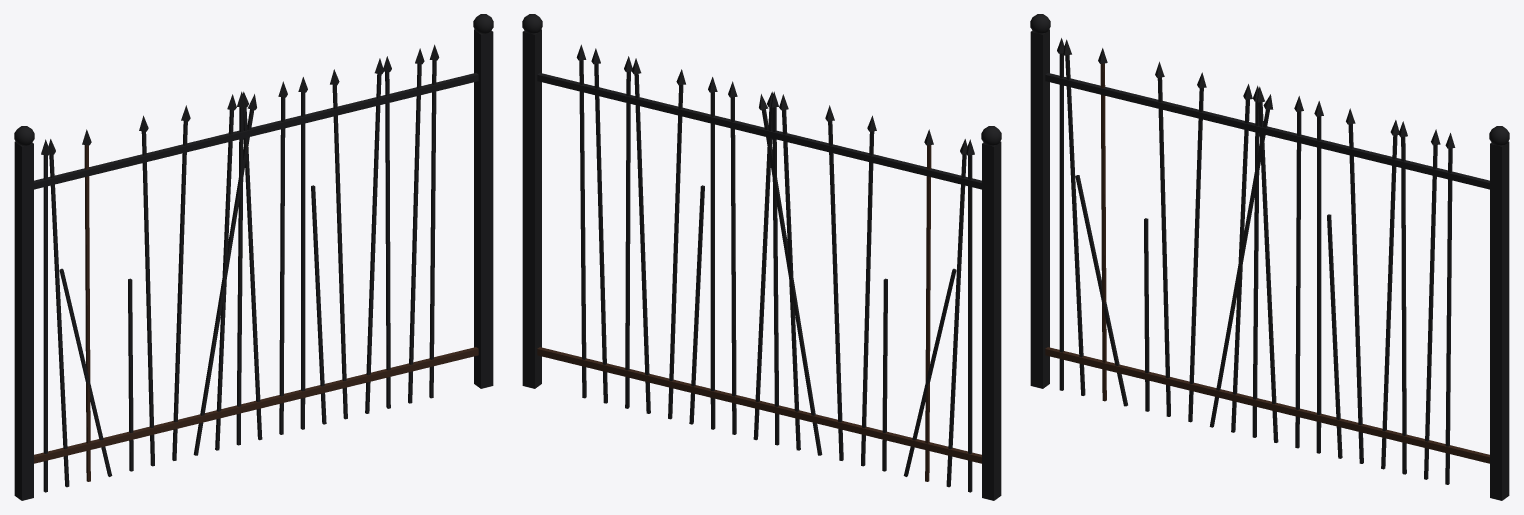
File: SM_80s_IronFence.glb
The picture shows the model from 3 angles, left to right: view 1: azimuth 30°, elevation 25°; view 2: azimuth 150°, elevation 25°; view 3: azimuth 330°, elevation 25°; orthographic projection.
Visible parts, largest first — view 1: SM_80s_IronFence; view 2: SM_80s_IronFence; view 3: SM_80s_IronFence.
Part boxes in pixels (x1=…): SM_80s_IronFence: x1=14, y1=14, x2=493, y2=500; SM_80s_IronFence: x1=522, y1=14, x2=1001, y2=500; SM_80s_IronFence: x1=1030, y1=14, x2=1509, y2=500.
Bounding box in the file's own units: 3.12 × 2.31 × 0.12.
